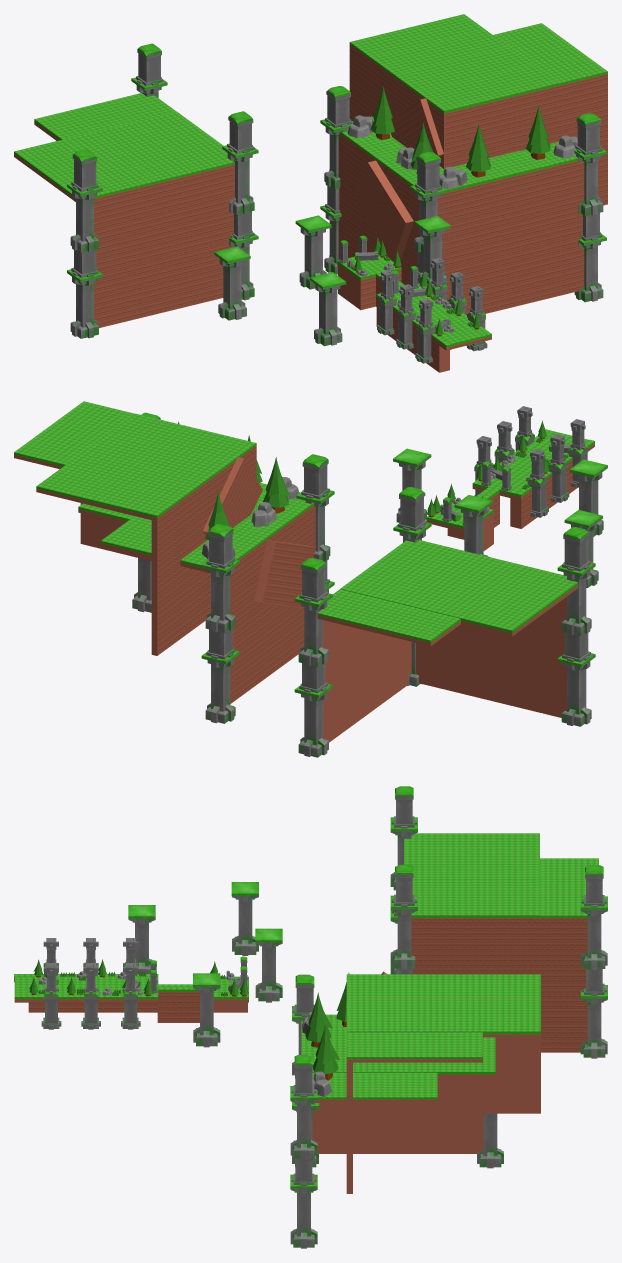
The picture shows the model from 3 angles, top to bottom: view 1: azimuth 30°, elevation 25°; view 2: azimuth 150°, elevation 25°; view 3: azimuth 270°, elevation 25°; orthographic projection. The views are drawn at different scales.
Parts seen in each view (by area): view 1: Cube.208; view 2: Cube.208; view 3: Cube.208.
Boxes of the visible parts, left/top/right/bottom form: Cube.208: left=14, top=14, right=607, bottom=372; Cube.208: left=14, top=401, right=607, bottom=757; Cube.208: left=14, top=786, right=607, bottom=1248.
Bounding box in the file's own units: 19406 × 7980 × 19137.
